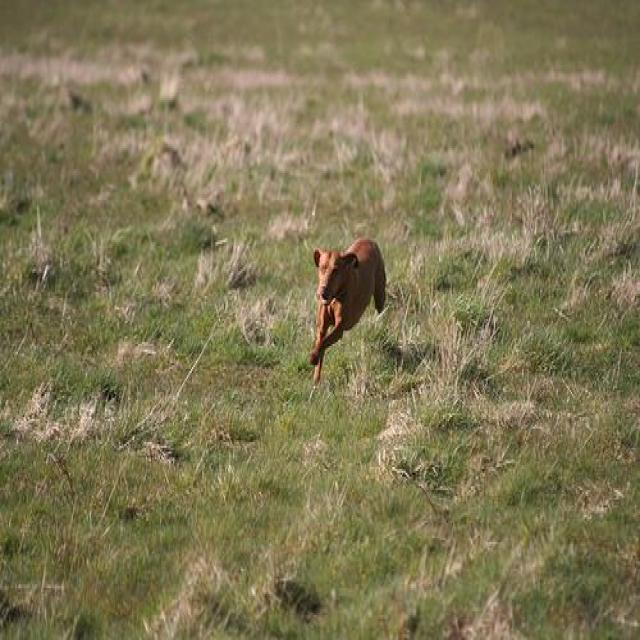vizsla: (302, 231, 387, 386)
